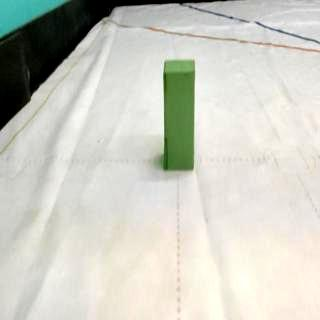greenbox: (161, 56, 198, 174)
